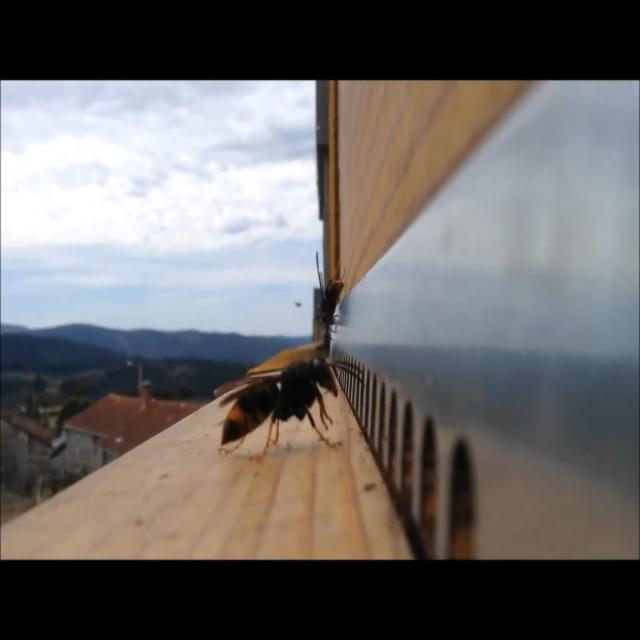Hornets: (212, 355, 365, 454), (311, 247, 350, 347)
